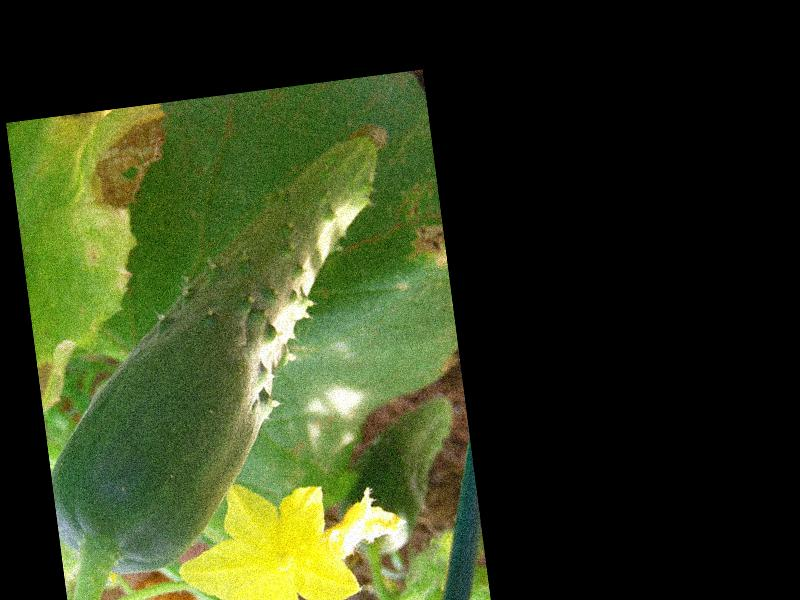Cucumber: (13, 123, 439, 581)
